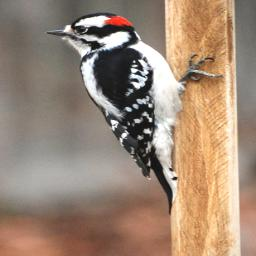Woodpecker: (46, 12, 223, 213)
